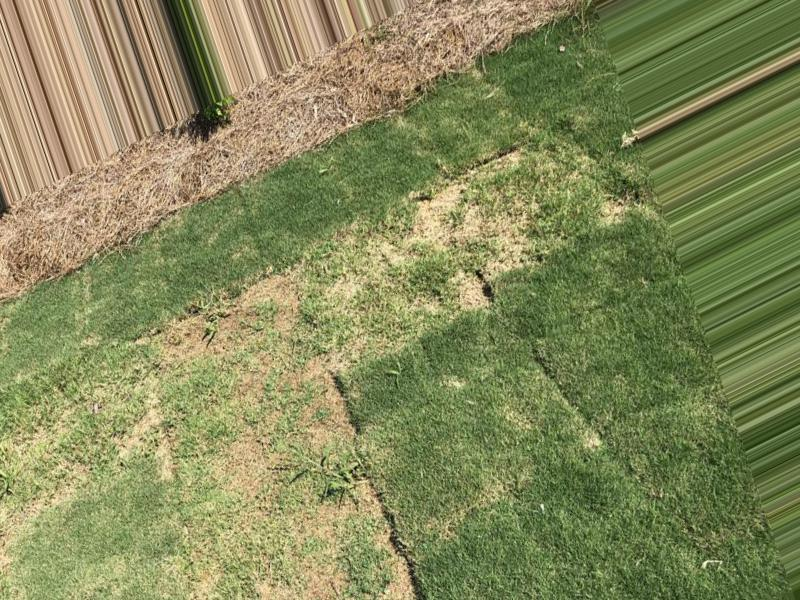patch: (225, 93, 356, 130), (232, 290, 328, 321), (111, 153, 196, 185), (367, 50, 441, 82), (7, 239, 74, 272), (48, 199, 115, 230), (454, 280, 509, 307), (488, 218, 532, 247), (449, 14, 499, 39), (188, 324, 221, 346), (383, 211, 407, 239), (274, 353, 312, 368), (443, 201, 467, 221)
